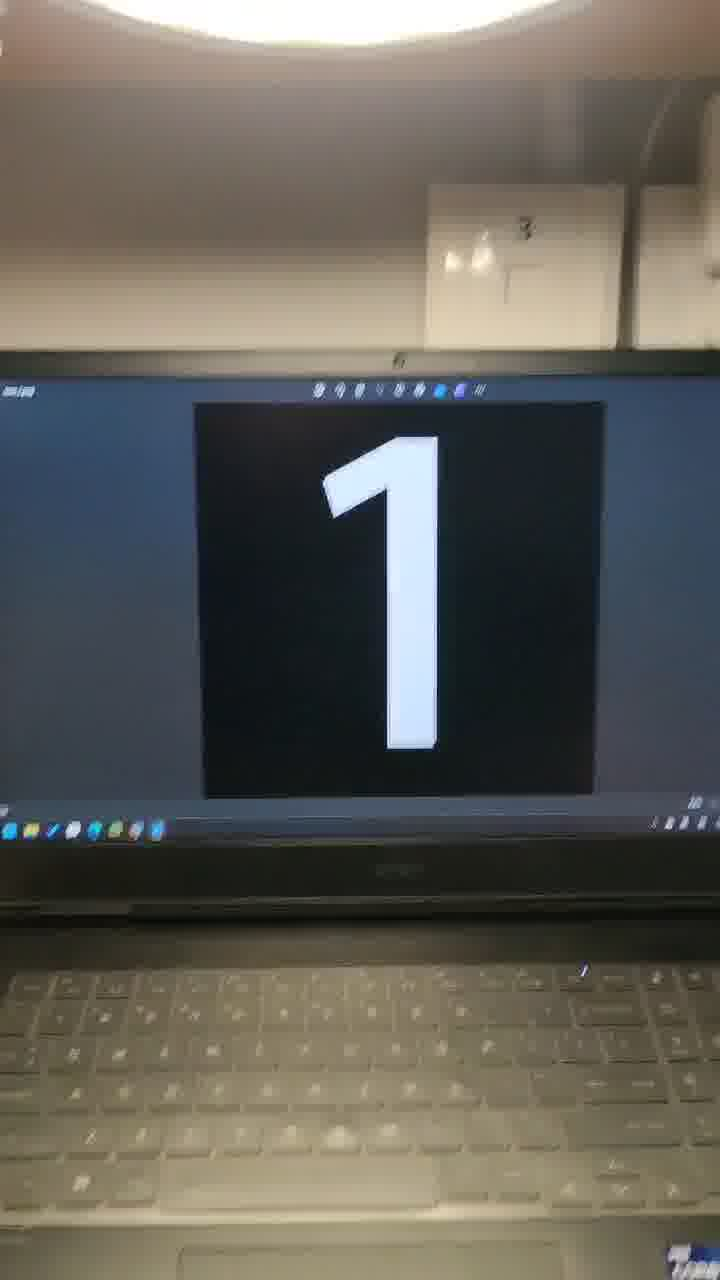one: (196, 352, 518, 838)
